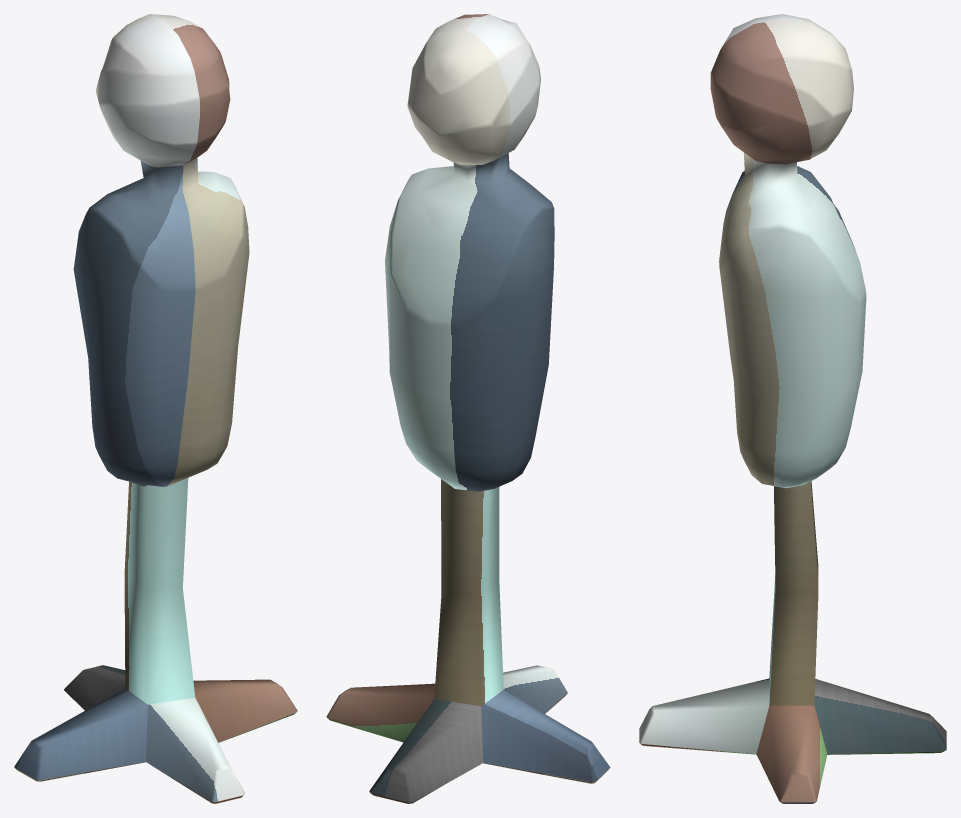
The model's file is P_StoneMannequin.glb.
3 renders of one model, left to right at view 1: azimuth 30°, elevation 25°; view 2: azimuth 150°, elevation 25°; view 3: azimuth 270°, elevation 25°, orthographic.
Parts seen in each view (by area): view 1: P_StoneMannequin; view 2: P_StoneMannequin; view 3: P_StoneMannequin.
Part boxes in pixels (left/top/right/bottom): P_StoneMannequin: left=14, top=14, right=297, bottom=803; P_StoneMannequin: left=326, top=14, right=610, bottom=803; P_StoneMannequin: left=639, top=14, right=946, bottom=803.
Size of the model in its own units: 0.389 by 1 by 0.3869.
Materials: 1 (1 with a texture image).
